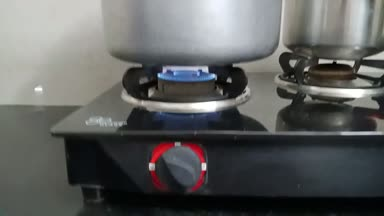flame_gas_on: (110, 52, 264, 206)
